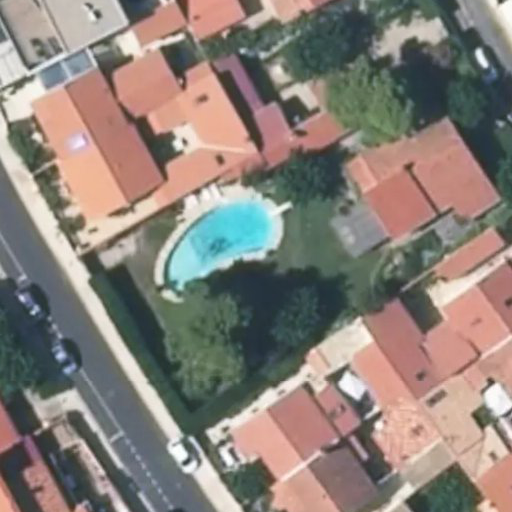pool: (189, 231, 320, 248)
